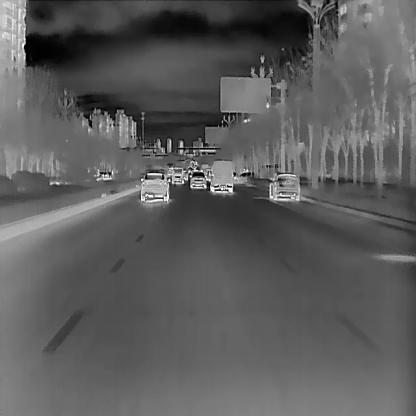car: (268, 170, 300, 202), (139, 170, 168, 203), (210, 158, 233, 194), (189, 172, 206, 188), (233, 171, 254, 183), (171, 168, 184, 185)
